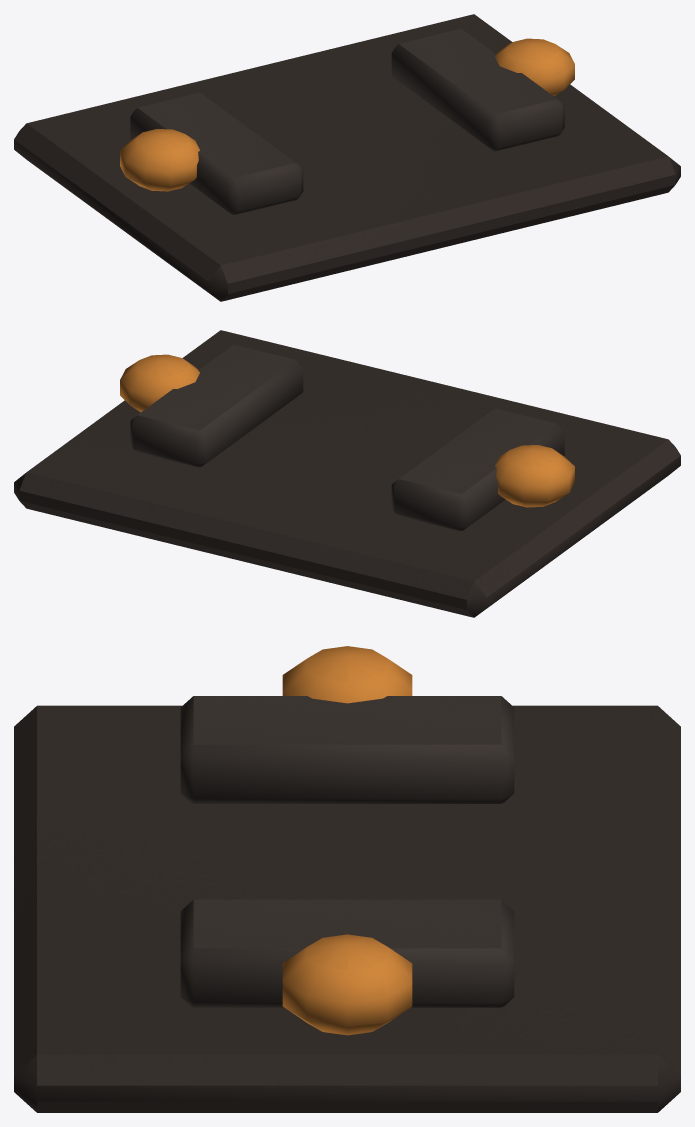
The model's file is Environment_Rail_Fastener_001.glb.
3 views of the same model, one above another, from view 1: azimuth 30°, elevation 25°; view 2: azimuth 150°, elevation 25°; view 3: azimuth 270°, elevation 25° (orthographic). The views are drawn at different scales.
Parts seen in each view (by area): view 1: Fastener_Static; view 2: Fastener_Static; view 3: Fastener_Static.
Part boxes in pixels (<box>): Fastener_Static: <box>14,14,680,301</box>; Fastener_Static: <box>14,330,680,617</box>; Fastener_Static: <box>14,646,680,1112</box>.
Size of the model in its own units: 0.34 by 0.0594 by 0.26.
Materials: 1 (1 with a texture image).
